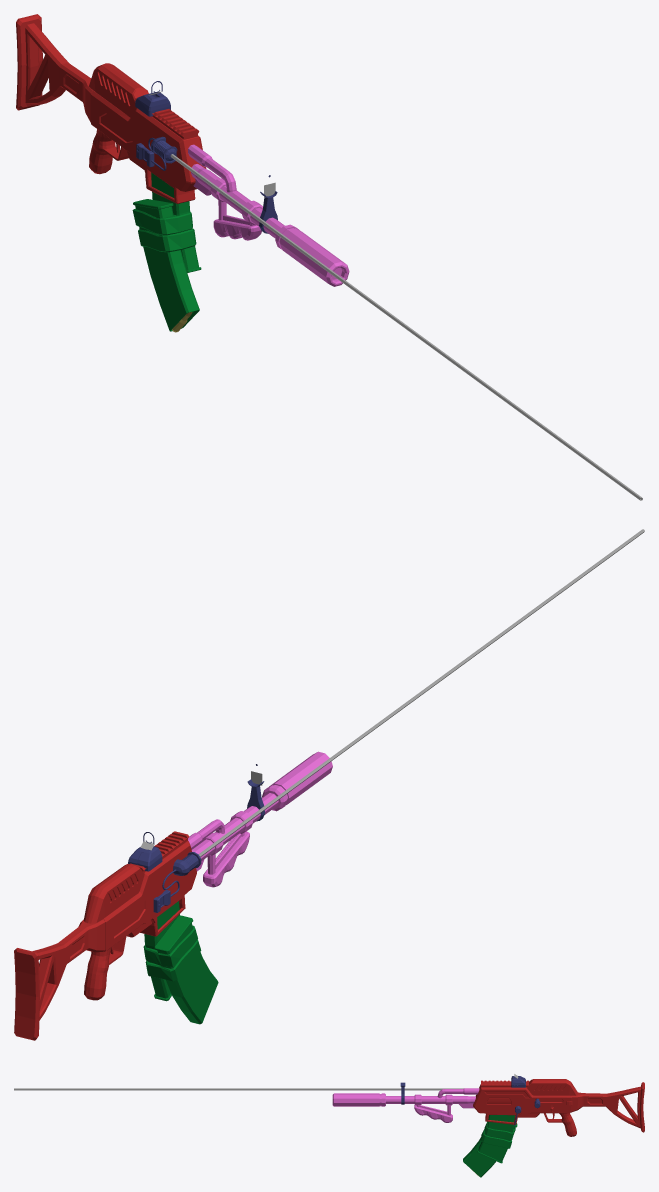
File: futuristic_rifle_wBullet.fbx
3 renders of one model, top to bottom at view 1: azimuth 30°, elevation 25°; view 2: azimuth 150°, elevation 25°; view 3: azimuth 270°, elevation 25°, orthographic. The views are drawn at different scales.
Parts seen in each view (by area): view 1: pCylinder42; view 2: pCylinder42; view 3: pCylinder42.
Part boxes in pixels (bbox=[...]): pCylinder42: bbox=[16, 14, 642, 500]; pCylinder42: bbox=[14, 529, 644, 1040]; pCylinder42: bbox=[14, 1074, 644, 1177].
Bounding box in the file's own units: 2.43 × 9.45 × 48.88.
